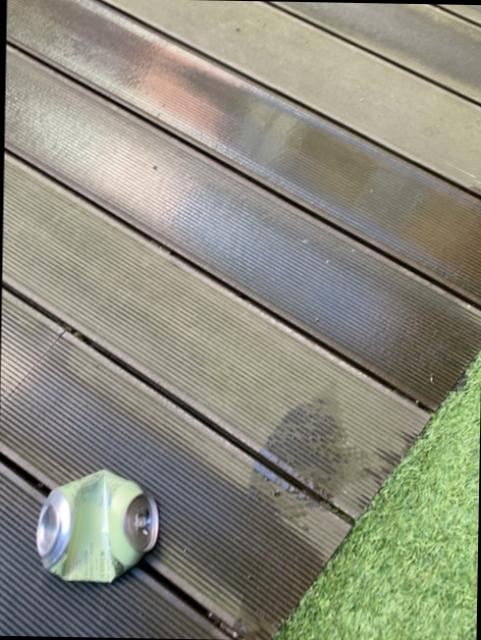metal: (37, 467, 159, 580)
